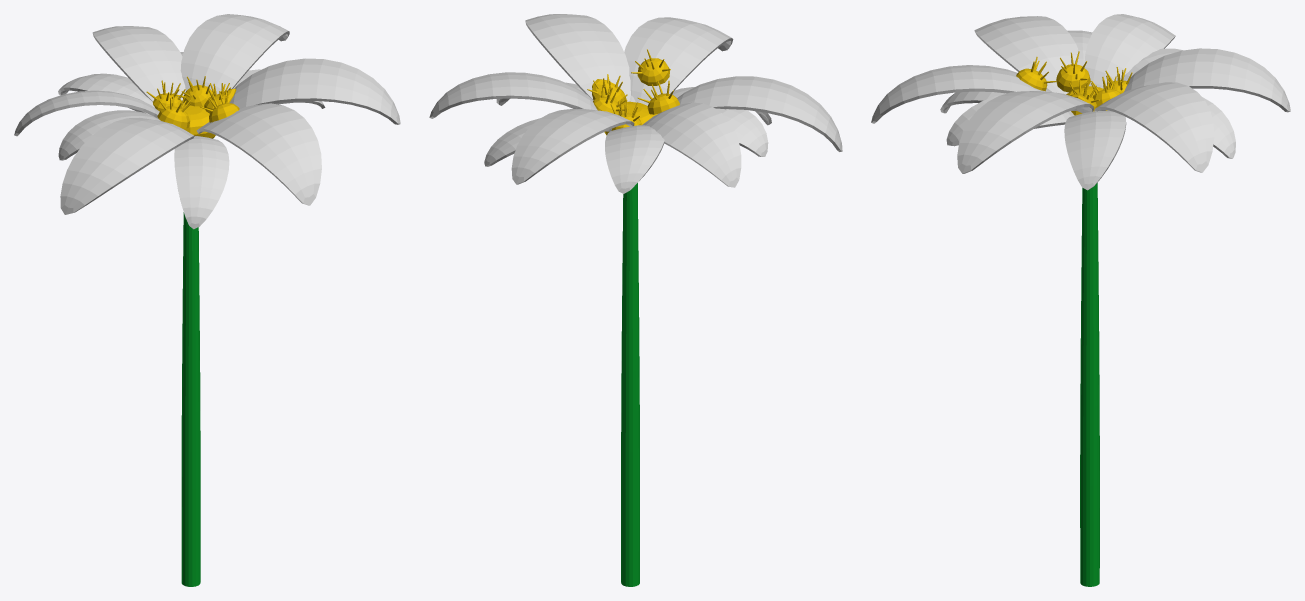
The model's file is Edelweiss_Mesh.fbx.
3 views of the same model, side by side, from view 1: azimuth 30°, elevation 25°; view 2: azimuth 150°, elevation 25°; view 3: azimuth 270°, elevation 25° (orthographic). The views are drawn at different scales.
Parts seen in each view (by area): view 1: Cylinder.007; view 2: Cylinder.007; view 3: Cylinder.007.
Part boxes in pixels (x1,y1,x2,y2): Cylinder.007: (14, 14, 400, 586); Cylinder.007: (429, 14, 842, 586); Cylinder.007: (871, 14, 1290, 586).
Size of the model in its own units: 112 by 171 by 123.
